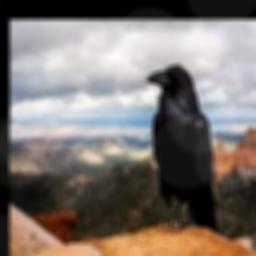Crow: (146, 64, 218, 233)
